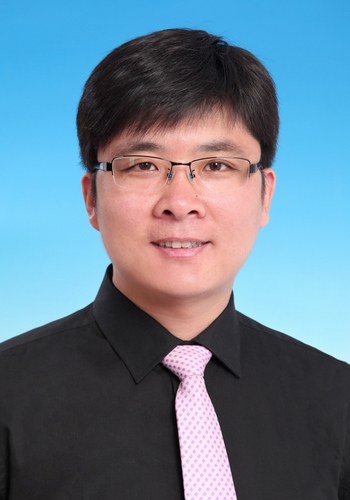unmask: (102, 114, 258, 299)
